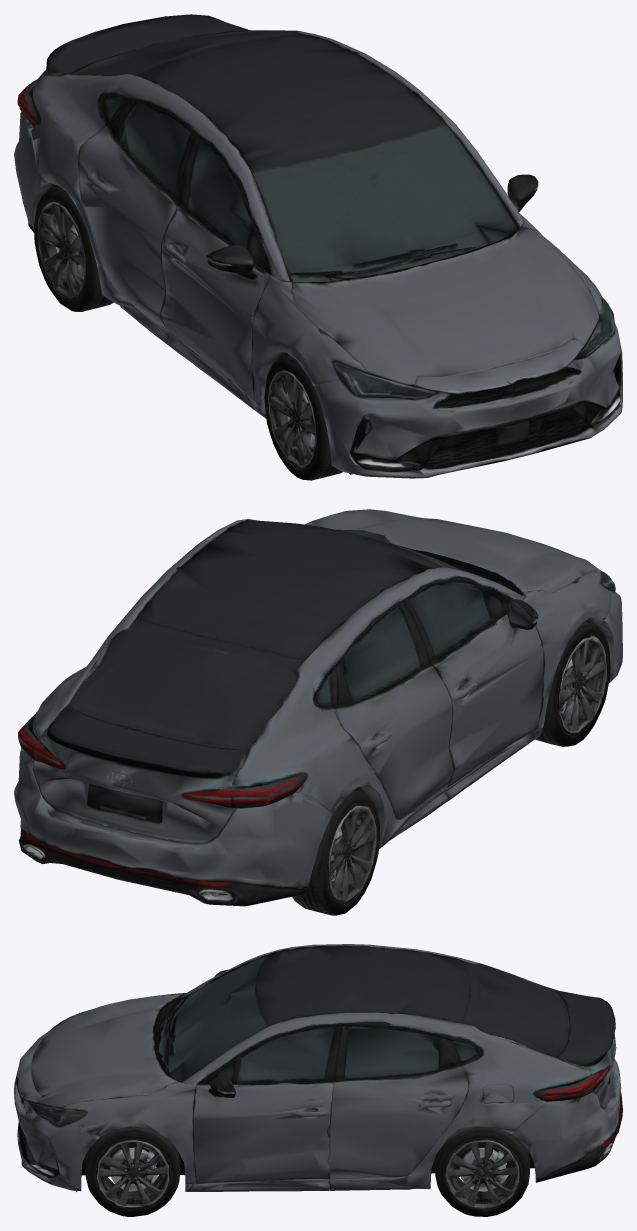
The model's file is car_hatch.glb.
The picture shows the model from 3 angles, top to bottom: view 1: azimuth 30°, elevation 25°; view 2: azimuth 150°, elevation 25°; view 3: azimuth 270°, elevation 25°; orthographic projection. The views are drawn at different scales.
Visible parts, largest first — view 1: tripo_node_8ab59725-be6d-47f6-b91d-43924e323fd1; view 2: tripo_node_8ab59725-be6d-47f6-b91d-43924e323fd1; view 3: tripo_node_8ab59725-be6d-47f6-b91d-43924e323fd1.
Part boxes in pixels (bbox=[...]): tripo_node_8ab59725-be6d-47f6-b91d-43924e323fd1: bbox=[14, 14, 622, 480]; tripo_node_8ab59725-be6d-47f6-b91d-43924e323fd1: bbox=[14, 509, 622, 915]; tripo_node_8ab59725-be6d-47f6-b91d-43924e323fd1: bbox=[14, 944, 622, 1216].
Bounding box in the file's own units: 1.92 × 1.4 × 4.06.
Materials: 1 (1 with a texture image).
